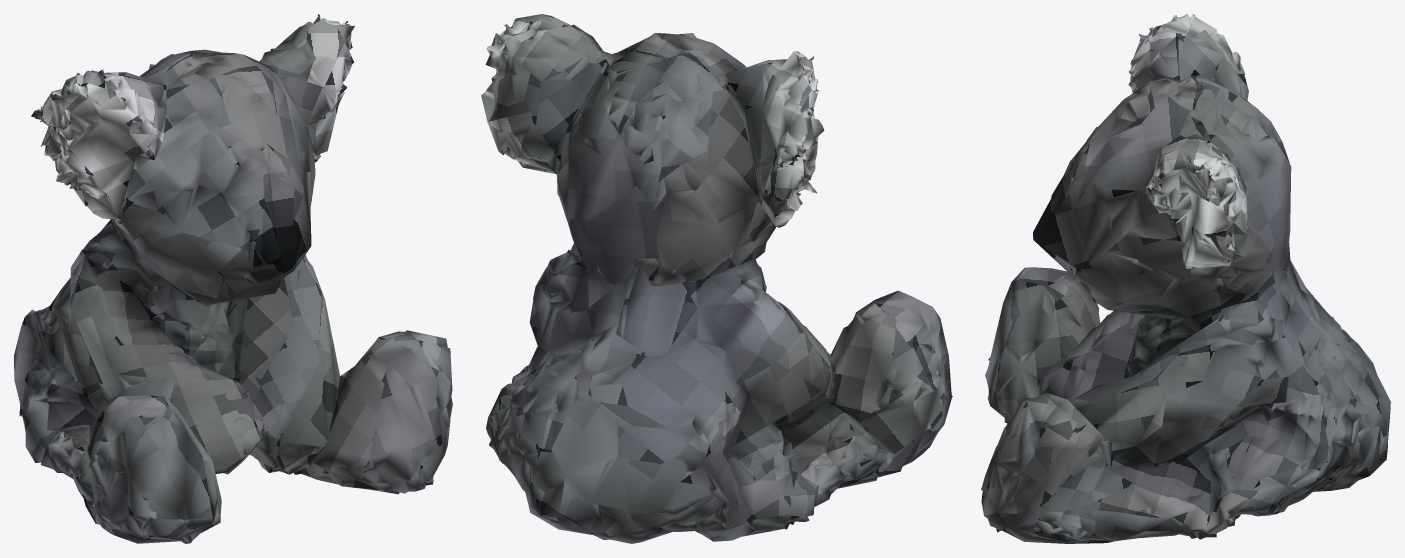
File: Ortho_Forward_Facing_QCaor9ImJ2G-low.glb
3 renders of one model, left to right at view 1: azimuth 30°, elevation 25°; view 2: azimuth 150°, elevation 25°; view 3: azimuth 270°, elevation 25°, orthographic. The views are drawn at different scales.
Parts seen in each view (by area): view 1: Ortho_Forward_Facing_QCaor9ImJ2G; view 2: Ortho_Forward_Facing_QCaor9ImJ2G; view 3: Ortho_Forward_Facing_QCaor9ImJ2G.
Boxes of the visible parts, x1,y1,x2,y2 form: Ortho_Forward_Facing_QCaor9ImJ2G: (14,14,452,543); Ortho_Forward_Facing_QCaor9ImJ2G: (481,14,952,543); Ortho_Forward_Facing_QCaor9ImJ2G: (981,14,1390,543).
Bounding box in the file's own units: 0.1719 × 0.1948 × 0.1767.
1 material, 1 textured.
